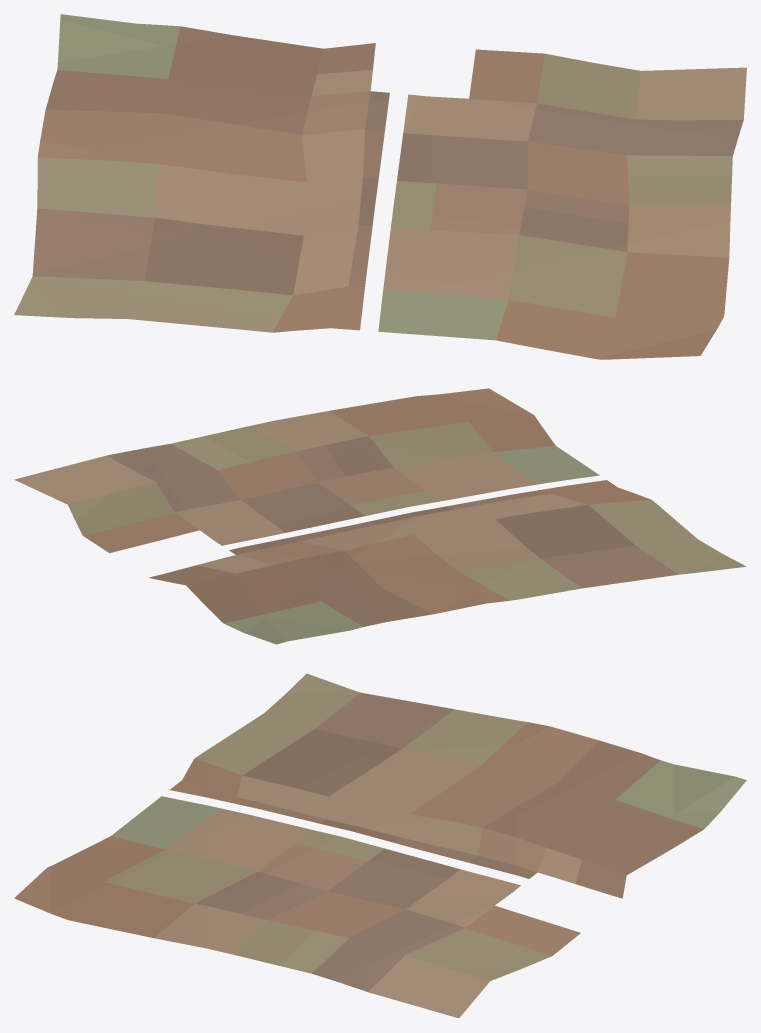
The model's file is farm_-32_-29_soil.glb.
3 views of the same model, one above another, from view 1: azimuth 30°, elevation 25°; view 2: azimuth 150°, elevation 25°; view 3: azimuth 270°, elevation 25° (orthographic). The views are drawn at different scales.
Visible parts, largest first — view 1: geometry_0; view 2: geometry_0; view 3: geometry_0.
Boxes of the visible parts, x1,y1,x2,y2 form: geometry_0: (14, 14, 746, 359); geometry_0: (14, 388, 746, 644); geometry_0: (14, 673, 746, 1018).
Size of the model in its own units: 396 by 25.76 by 376.
